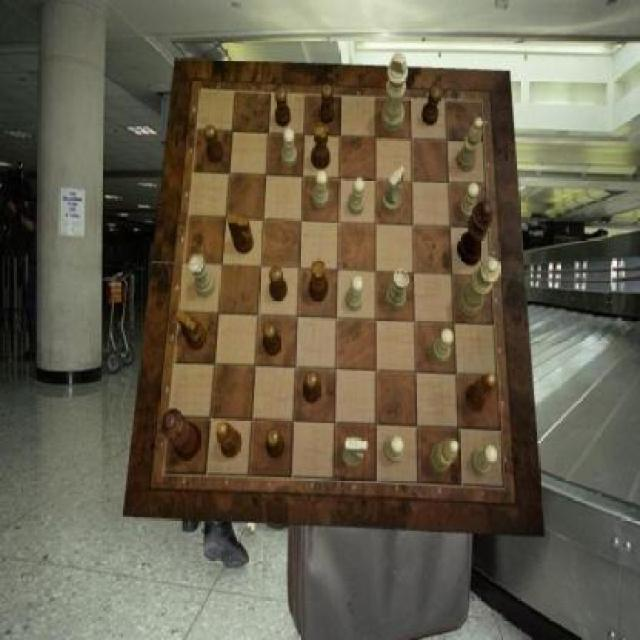bishop: (466, 374, 497, 414), (217, 422, 241, 459)
black-bishop: (457, 199, 492, 266)
black-king: (176, 311, 206, 351), (228, 215, 255, 254)
black-knight: (204, 126, 224, 165), (422, 88, 441, 126), (263, 322, 282, 356), (276, 88, 292, 128), (318, 84, 334, 124), (303, 370, 321, 404), (266, 428, 286, 458), (271, 266, 288, 301)
black-pawn: (162, 408, 202, 460)
black-queen: (309, 258, 329, 302), (311, 123, 330, 169)
black-rook: (456, 117, 482, 171), (429, 438, 459, 474)
white-bishop: (382, 54, 408, 134)
white-king: (383, 167, 406, 216), (343, 437, 369, 469)
white-knight: (470, 445, 498, 477), (432, 329, 455, 364), (460, 183, 480, 222), (282, 128, 298, 168), (346, 275, 364, 310), (348, 179, 365, 216), (312, 171, 328, 209), (384, 436, 406, 462)
white-pawn: (457, 257, 500, 318)
white-queen: (189, 255, 216, 298), (384, 269, 408, 311)
